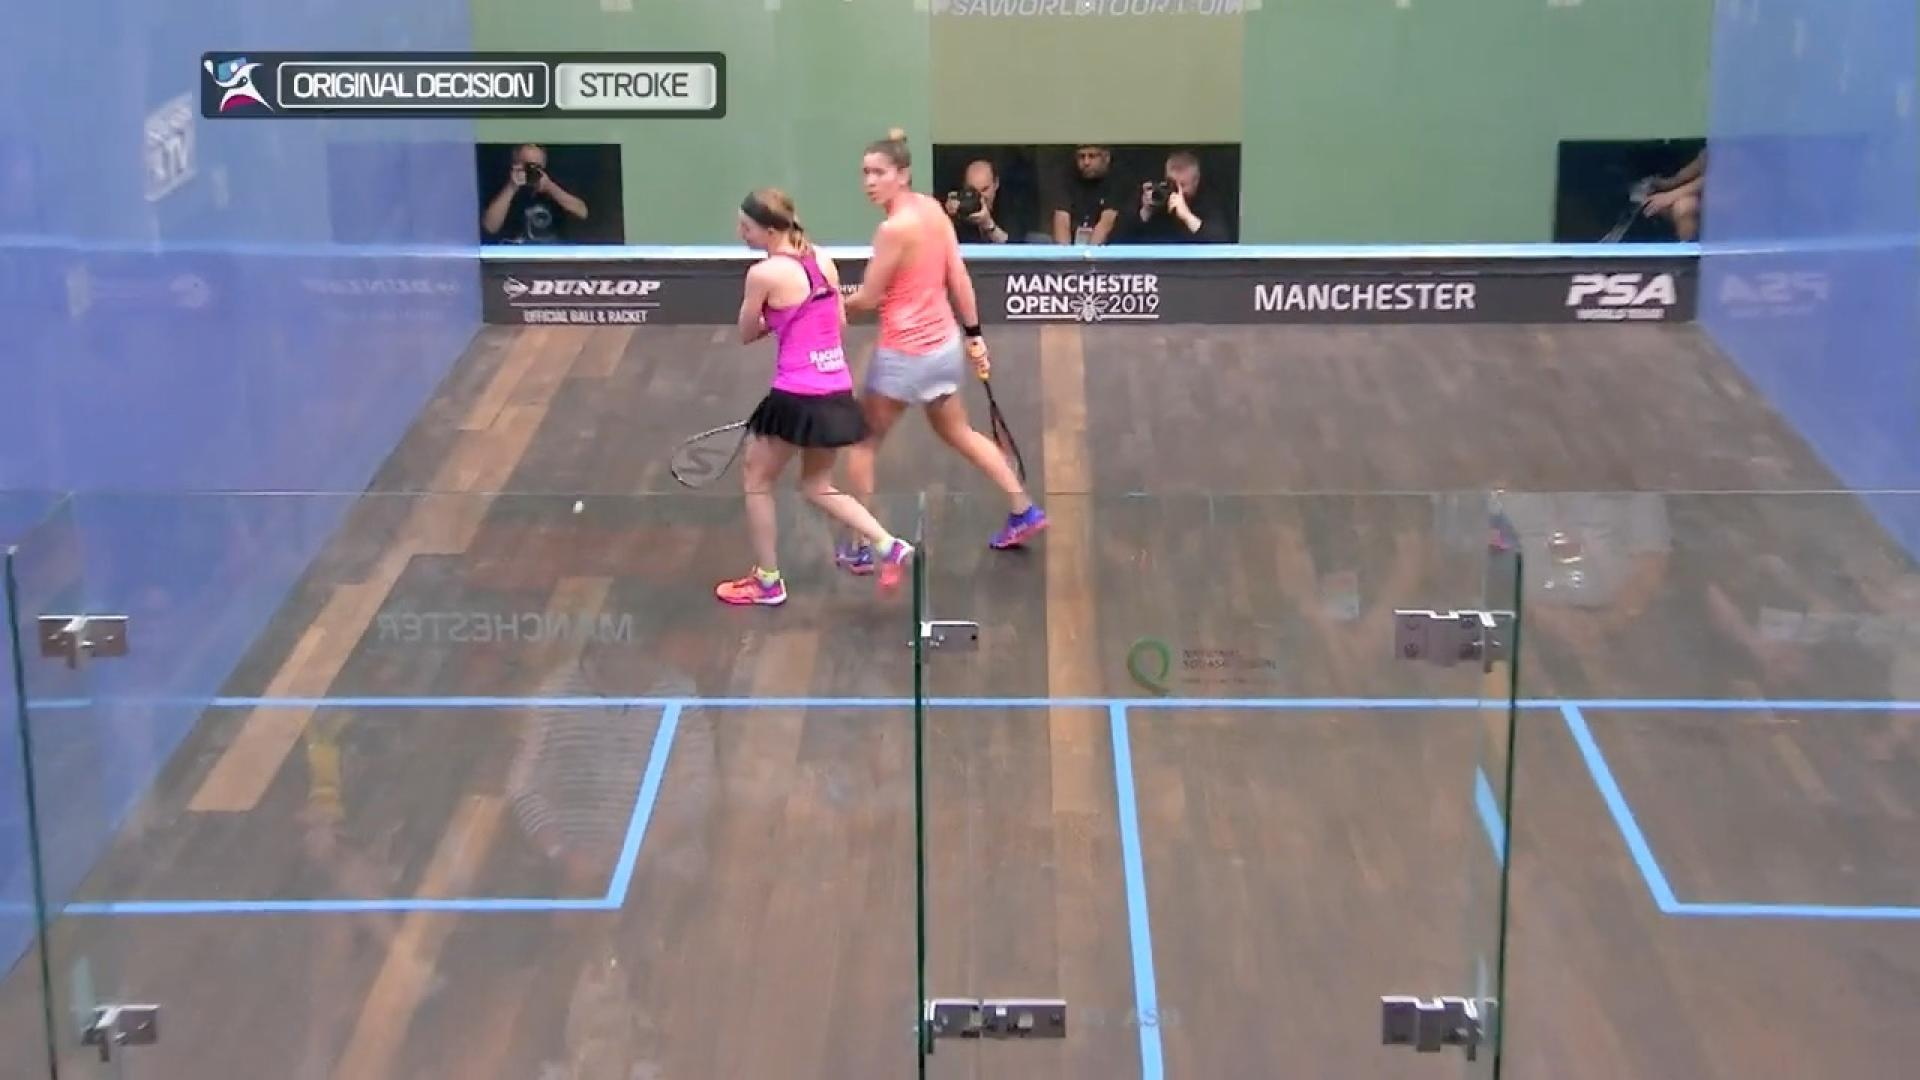Squash-Ball: (553, 472, 603, 534)
